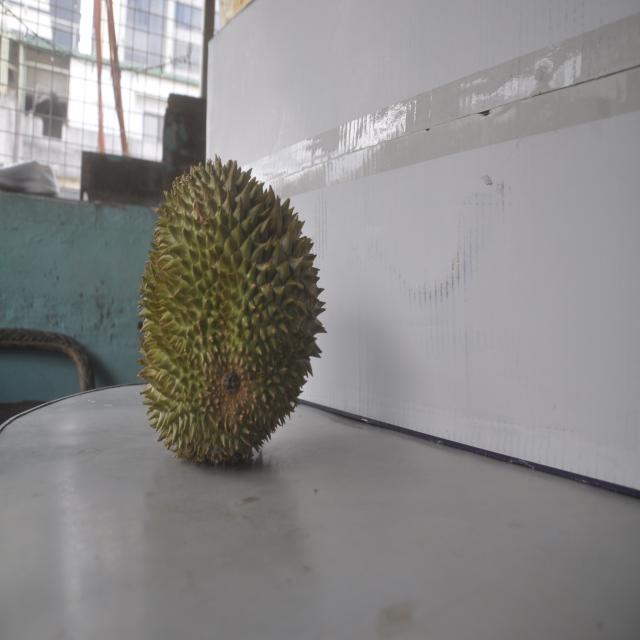mature: (134, 154, 325, 465)
